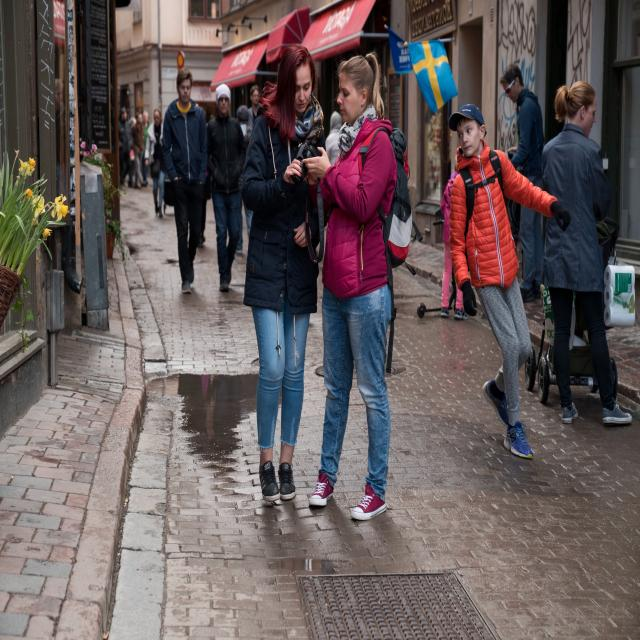adult: (300, 43, 398, 527), (239, 21, 326, 537), (540, 69, 632, 428), (162, 65, 209, 305)
child: (435, 101, 570, 473)
